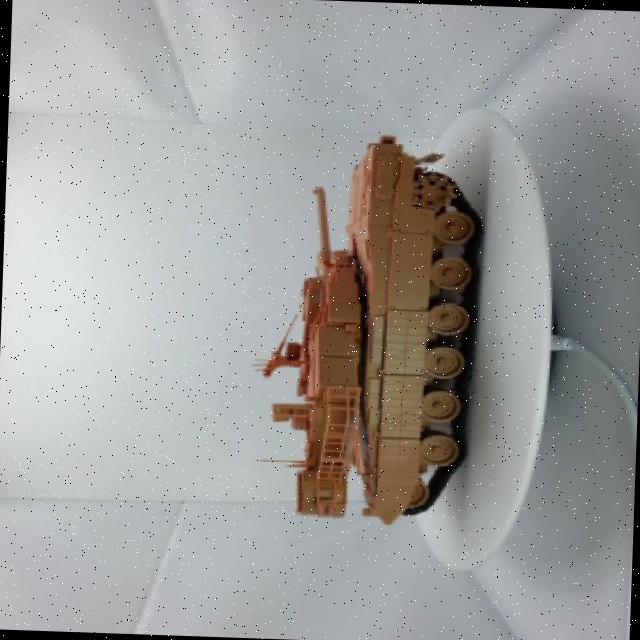korea tank: (237, 107, 504, 542)
